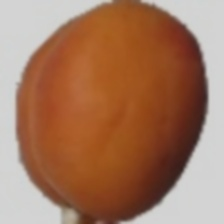apricot: (21, 52, 184, 201)
